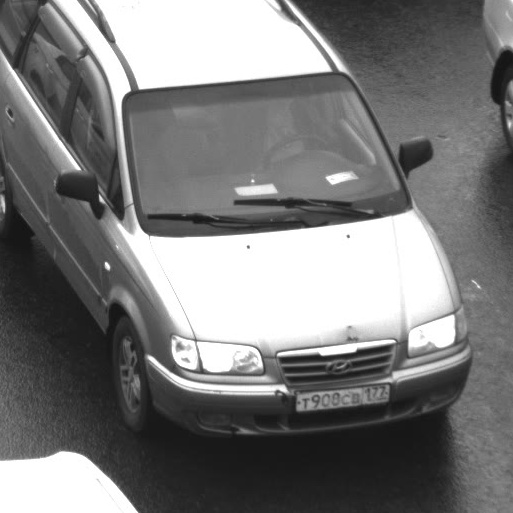plate: (285, 372, 399, 418)
